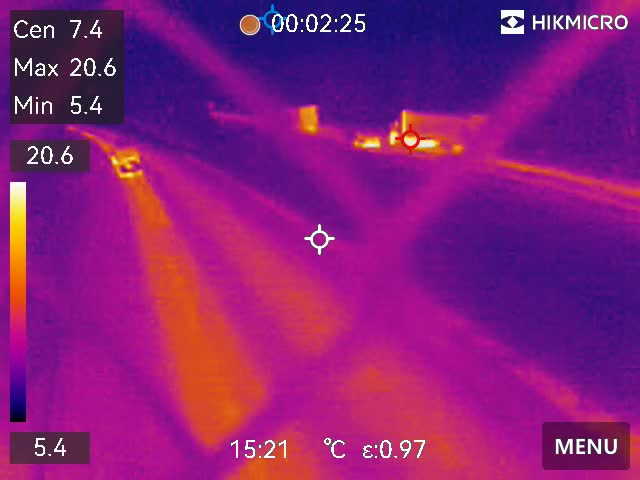heavyTruck: (385, 105, 493, 154)
